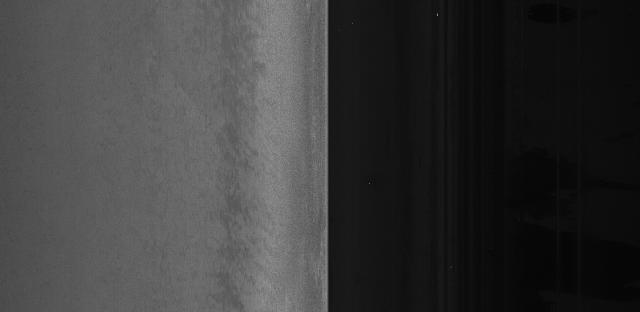silk_spot: (210, 115, 278, 203)
